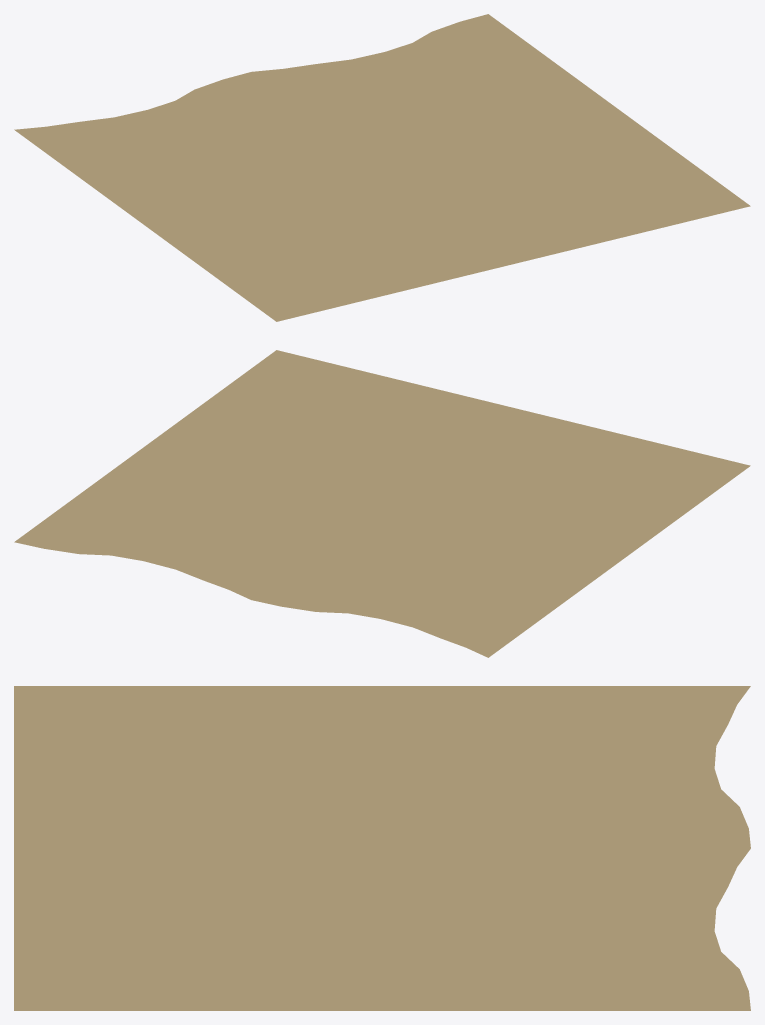
File: 20C_ground_river01.fbx
3 renders of one model, top to bottom at view 1: azimuth 30°, elevation 25°; view 2: azimuth 150°, elevation 25°; view 3: azimuth 270°, elevation 25°, orthographic. The views are drawn at different scales.
Parts seen in each view (by area): view 1: 20C_ground_river01; view 2: 20C_ground_river01; view 3: 20C_ground_river01.
Part boxes in pixels (bbox=[...]): 20C_ground_river01: bbox=[14, 14, 750, 321]; 20C_ground_river01: bbox=[14, 350, 750, 657]; 20C_ground_river01: bbox=[14, 686, 750, 1010].
Bounding box in the file's own units: 100 × 5.87e-15 × 95.87.
